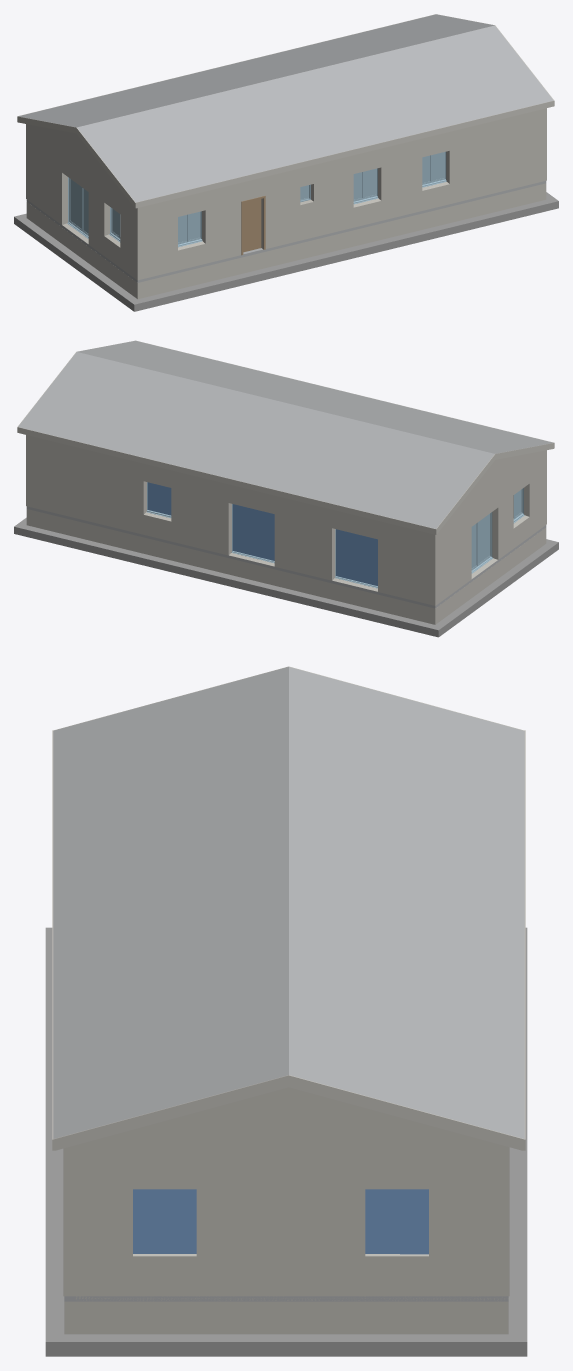
The model's file is villa-sabonnere.glb.
3 views of the same model, one above another, from view 1: azimuth 30°, elevation 25°; view 2: azimuth 150°, elevation 25°; view 3: azimuth 270°, elevation 25° (orthographic). The views are drawn at different scales.
Parts seen in each view (by area): view 1: 17rI3TcMPCIxlRSwbcYki2, 3A9MvhcVDAFwLzMshXkWKM, 17rI3TcMPCIxlRSwXcYki2, 3A9MvhcVDAFwLzMshXkWN6, 3_0r84Am5ASul9aVDJDtwo, 3_0r84Am5ASul9aVDJDtz4, 3FzJPkvYHC8QcMjPeSW3Im, 3_0r84Am5ASul9aVDJDtbb, 3A9MvhcVDAFwLzMshXkW_z, 3_0r84Am5ASul9aVDJDtzb, 17rI3TcMPCIxlRSwjcYkYP, 1$UxEng813$OZzsp0am7yE (+3 smaller); view 2: 17rI3TcMPCIxlRSwXcYki2, 3A9MvhcVDAFwLzMshXkWQP, 17rI3TcMPCIxlRSwbcYki2, 3A9MvhcVDAFwLzMshXkWN6, 3_0r84Am5ASul9aVDJDtux, 3_0r84Am5ASul9aVDJDtzg, 0bbcRIy99EivGBBVzMg_om, 3FzJPkvYHC8QcMjPeSW3Im, 3_0r84Am5ASul9aVDJDtbb, 3A9MvhcVDAFwLzMshXkW_z, 3_0r84Am5ASul9aVDJDtzb, 1$UxEng813$OZzsp0am7yE; view 3: 17rI3TcMPCIxlRSwXcYki2, 17rI3TcMPCIxlRSwbcYki2, 3A9MvhcVDAFwLzMshXkWLV, 3_0r84Am5ASul9aVDJDtxv, 3_0r84Am5ASul9aVDJDtzV, 0bbcRIy99EivGBBVzMg_om, 3FzJPkvYHC8QcMjPeSW3Im, 3_0r84Am5ASul9aVDJDtz4, 3_0r84Am5ASul9aVDJDtzg, 3A9MvhcVDAFwLzMshXkW_z, 3A9MvhcVDAFwLzMshXkWQP.
Part boxes in pixels (bbox=[...]): 17rI3TcMPCIxlRSwbcYki2: bbox=[77, 25, 553, 202]; 3A9MvhcVDAFwLzMshXkWKM: bbox=[134, 109, 541, 280]; 17rI3TcMPCIxlRSwXcYki2: bbox=[18, 14, 494, 127]; 3A9MvhcVDAFwLzMshXkWN6: bbox=[29, 124, 134, 277]; 3_0r84Am5ASul9aVDJDtwo: bbox=[142, 183, 546, 297]; 3_0r84Am5ASul9aVDJDtz4: bbox=[122, 192, 558, 311]; 3FzJPkvYHC8QcMjPeSW3Im: bbox=[17, 14, 554, 208]; 3_0r84Am5ASul9aVDJDtbb: bbox=[26, 202, 142, 299]; 3A9MvhcVDAFwLzMshXkW_z: bbox=[26, 181, 546, 282]; 3_0r84Am5ASul9aVDJDtzb: bbox=[26, 223, 129, 302]; 17rI3TcMPCIxlRSwjcYkYP: bbox=[241, 195, 265, 255]; 1$UxEng813$OZzsp0am7yE: bbox=[67, 177, 88, 238]; 17rI3TcMPCIxlRSwXcYki2: bbox=[18, 352, 494, 528]; 3A9MvhcVDAFwLzMshXkWQP: bbox=[26, 435, 438, 605]; 17rI3TcMPCIxlRSwbcYki2: bbox=[77, 340, 553, 453]; 3A9MvhcVDAFwLzMshXkWN6: bbox=[438, 451, 543, 603]; 3_0r84Am5ASul9aVDJDtux: bbox=[31, 510, 430, 623]; 3_0r84Am5ASul9aVDJDtzg: bbox=[34, 528, 450, 637]; 0bbcRIy99EivGBBVzMg_om: bbox=[147, 482, 377, 585]; 3FzJPkvYHC8QcMjPeSW3Im: bbox=[17, 340, 554, 534]; 3_0r84Am5ASul9aVDJDtbb: bbox=[430, 527, 546, 624]; 3A9MvhcVDAFwLzMshXkW_z: bbox=[26, 506, 546, 608]; 3_0r84Am5ASul9aVDJDtzb: bbox=[443, 549, 546, 628]; 1$UxEng813$OZzsp0am7yE: bbox=[471, 512, 492, 573]; 17rI3TcMPCIxlRSwXcYki2: bbox=[289, 667, 524, 1138]; 17rI3TcMPCIxlRSwbcYki2: bbox=[53, 667, 288, 1138]; 3A9MvhcVDAFwLzMshXkWLV: bbox=[63, 1087, 497, 1296]; 3_0r84Am5ASul9aVDJDtxv: bbox=[75, 1296, 508, 1334]; 3_0r84Am5ASul9aVDJDtzV: bbox=[93, 1322, 527, 1356]; 0bbcRIy99EivGBBVzMg_om: bbox=[133, 1189, 428, 1254]; 3FzJPkvYHC8QcMjPeSW3Im: bbox=[52, 666, 525, 1150]; 3_0r84Am5ASul9aVDJDtz4: bbox=[45, 927, 93, 1356]; 3_0r84Am5ASul9aVDJDtzg: bbox=[508, 927, 527, 1321]; 3A9MvhcVDAFwLzMshXkW_z: bbox=[64, 1296, 508, 1301]; 3A9MvhcVDAFwLzMshXkWQP: bbox=[498, 1144, 509, 1296].
Bounding box in the file's own units: 18.48 × 5.79 × 9.07.
